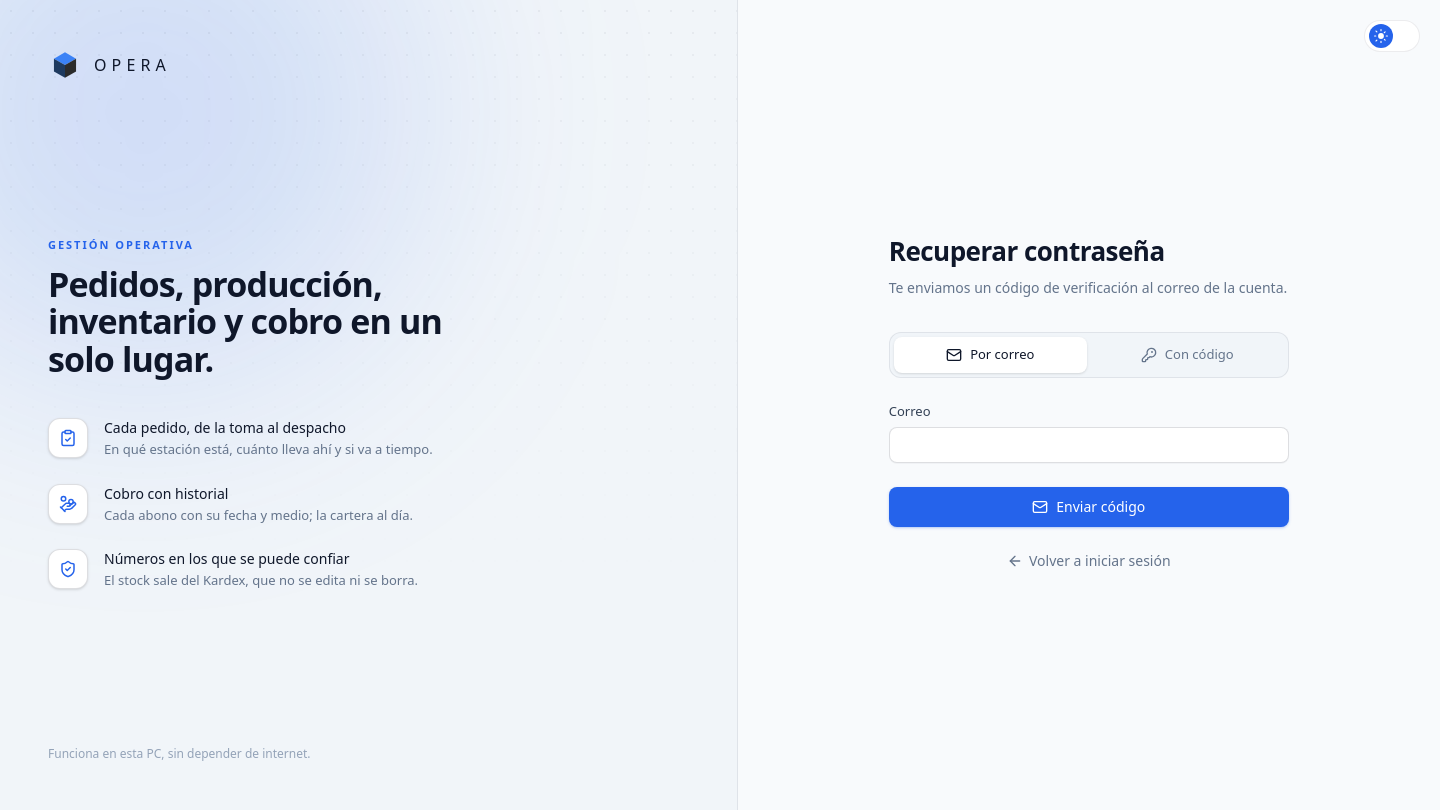
ForgotPasswordPage › requests a code and moves to the verify step on success
Check: the button "Enviar código" is shown, box x1=889 y1=487 x2=1289 y2=527
In the field labelled "Correo": (1089, 445) x1=889 y1=427 x2=1289 y2=463, type "admin@opera.local"
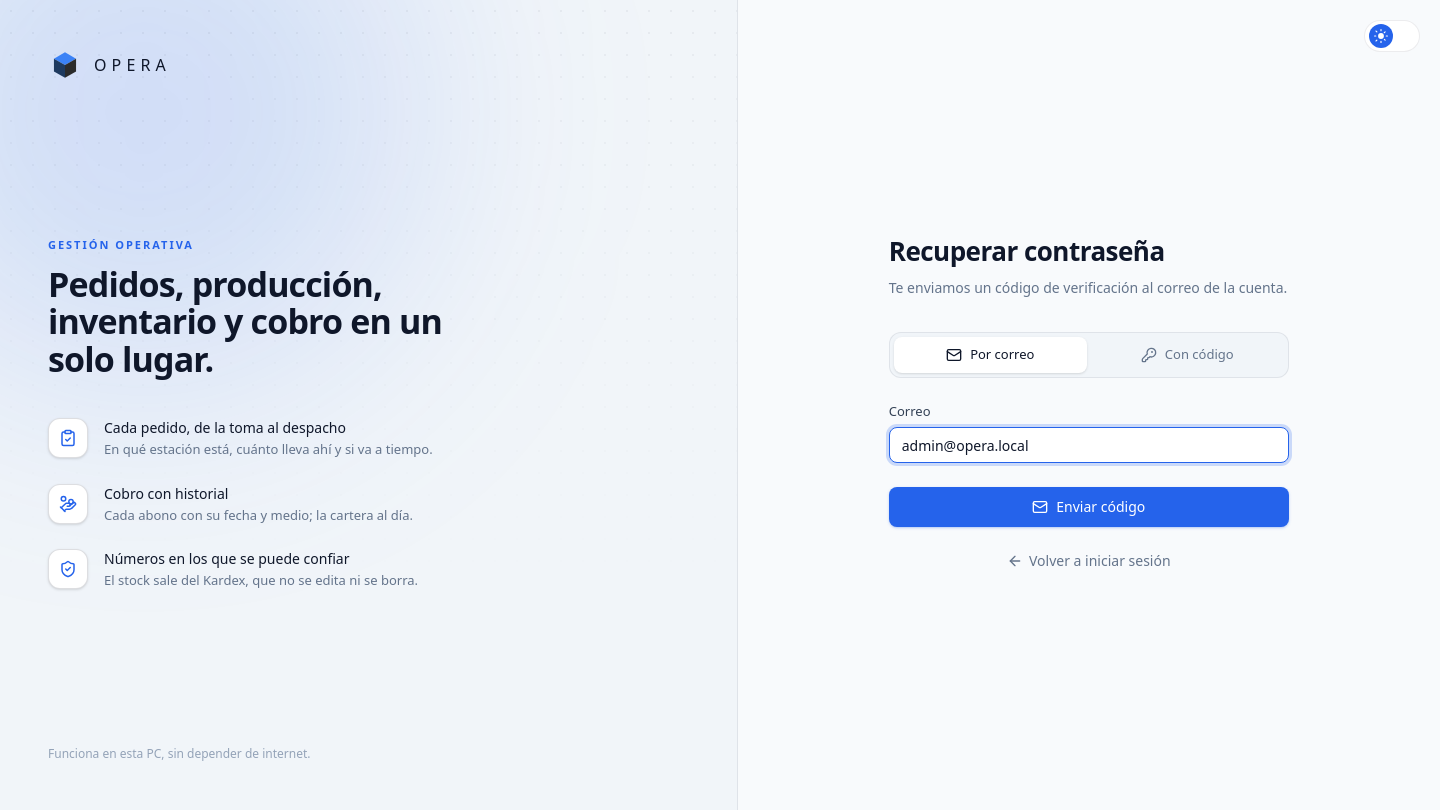
Click the button "Enviar código": (1089, 507) x1=889 y1=487 x2=1289 y2=527
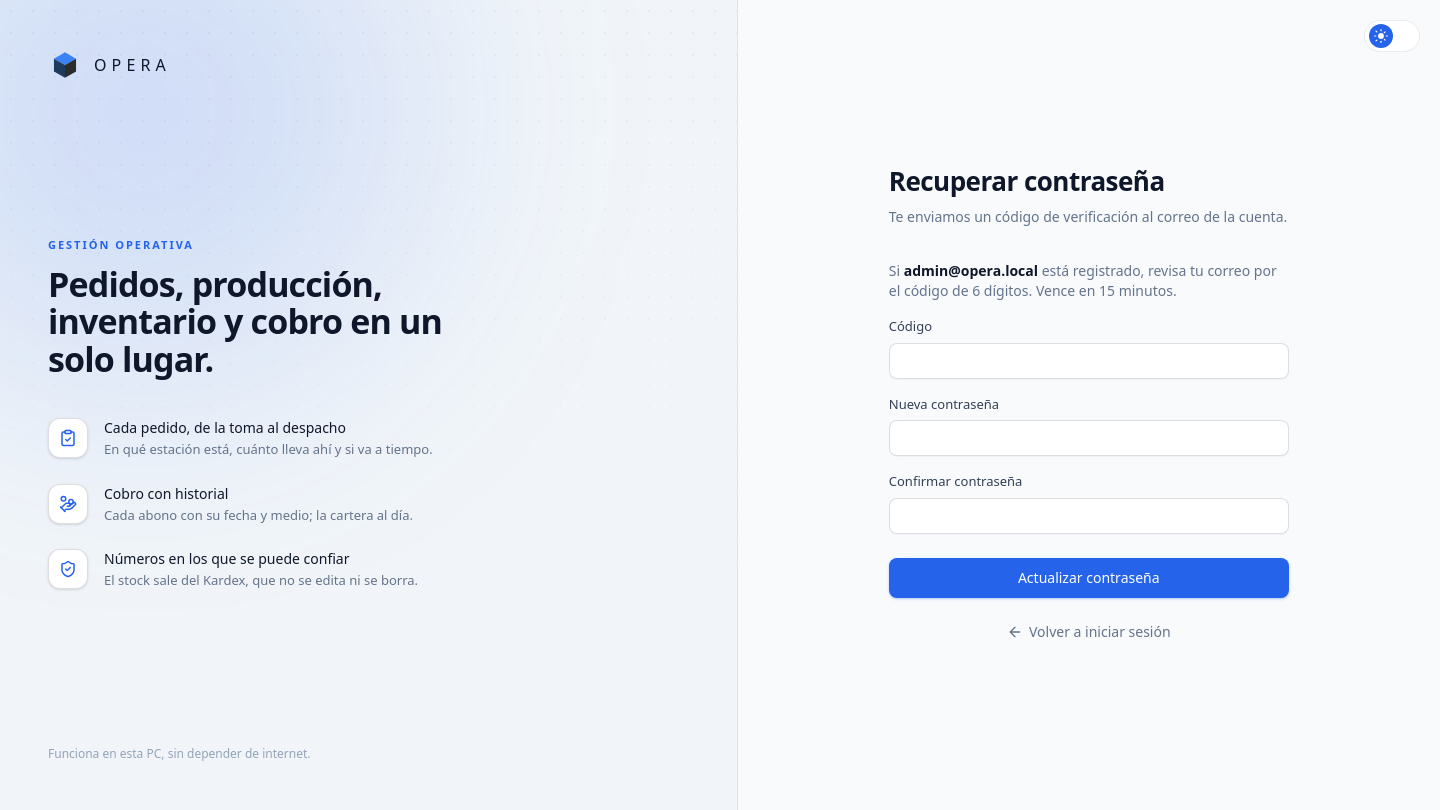
Check: the field labelled "Código" is shown, box x1=889 y1=342 x2=1289 y2=378
Check: the text "admin@opera.local" is shown, box x1=904 y1=261 x2=1038 y2=280
